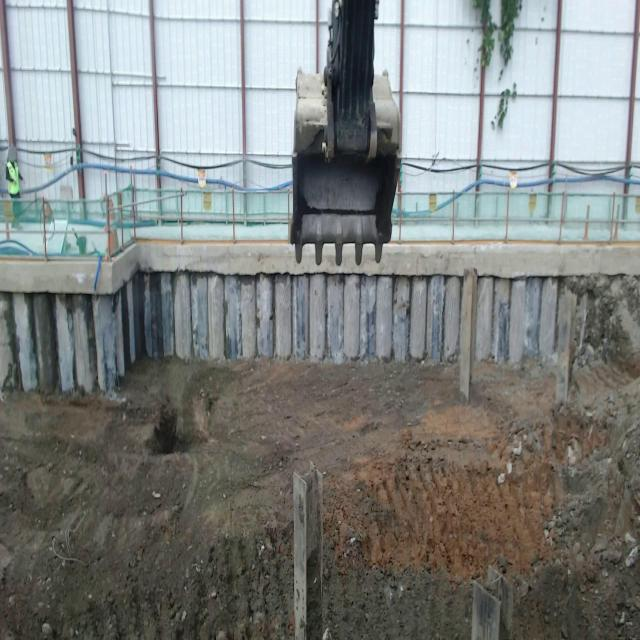red-sand: (519, 278, 640, 639)
white-sand: (0, 360, 555, 639)
